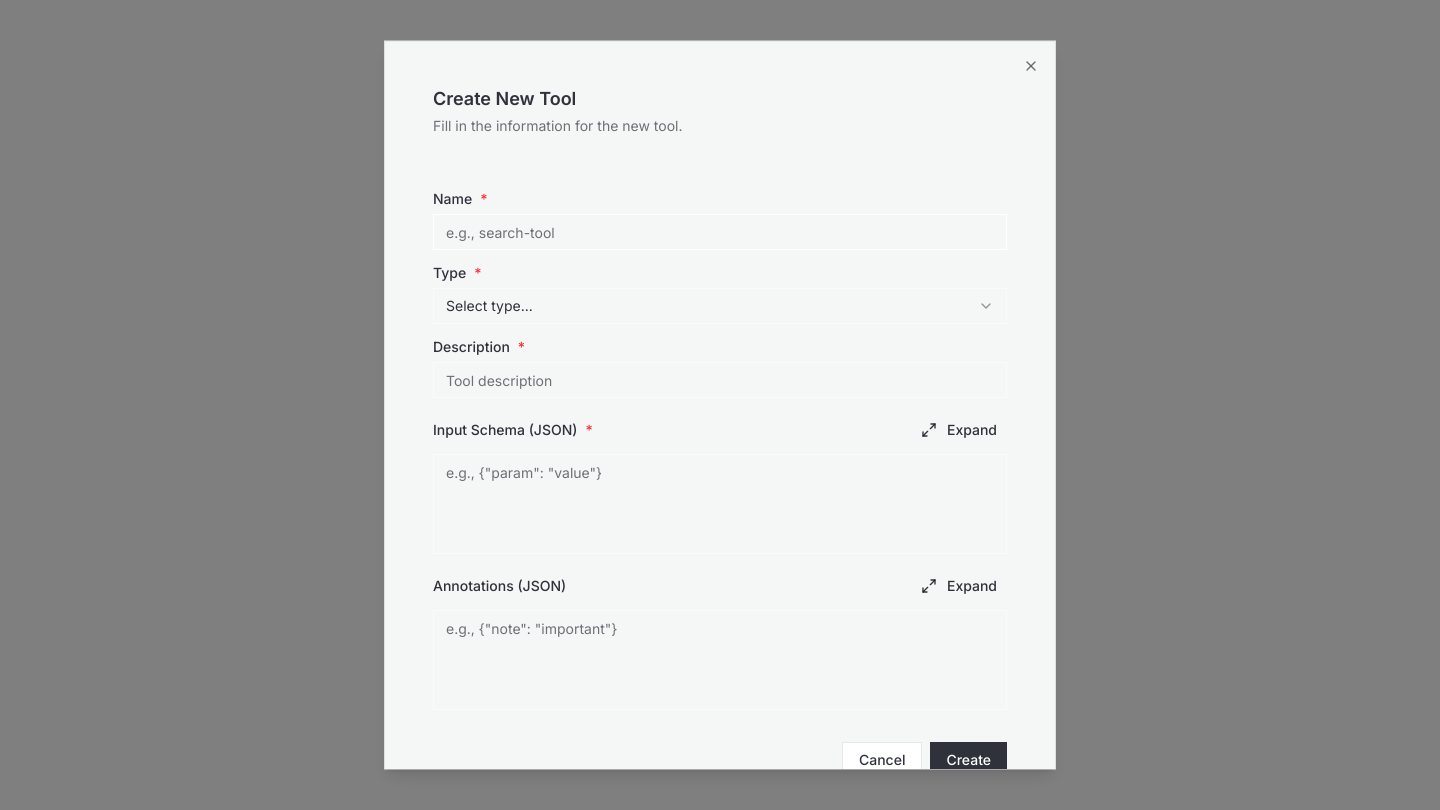
Test: ToolEditor › validation › should show error when type is not selected on submit
The width and height of the screenshot is (1440, 810).
Type "my-tool" into the field labelled "Name *" at (720, 232), box top-left (433, 214), bottom-right (1007, 250)
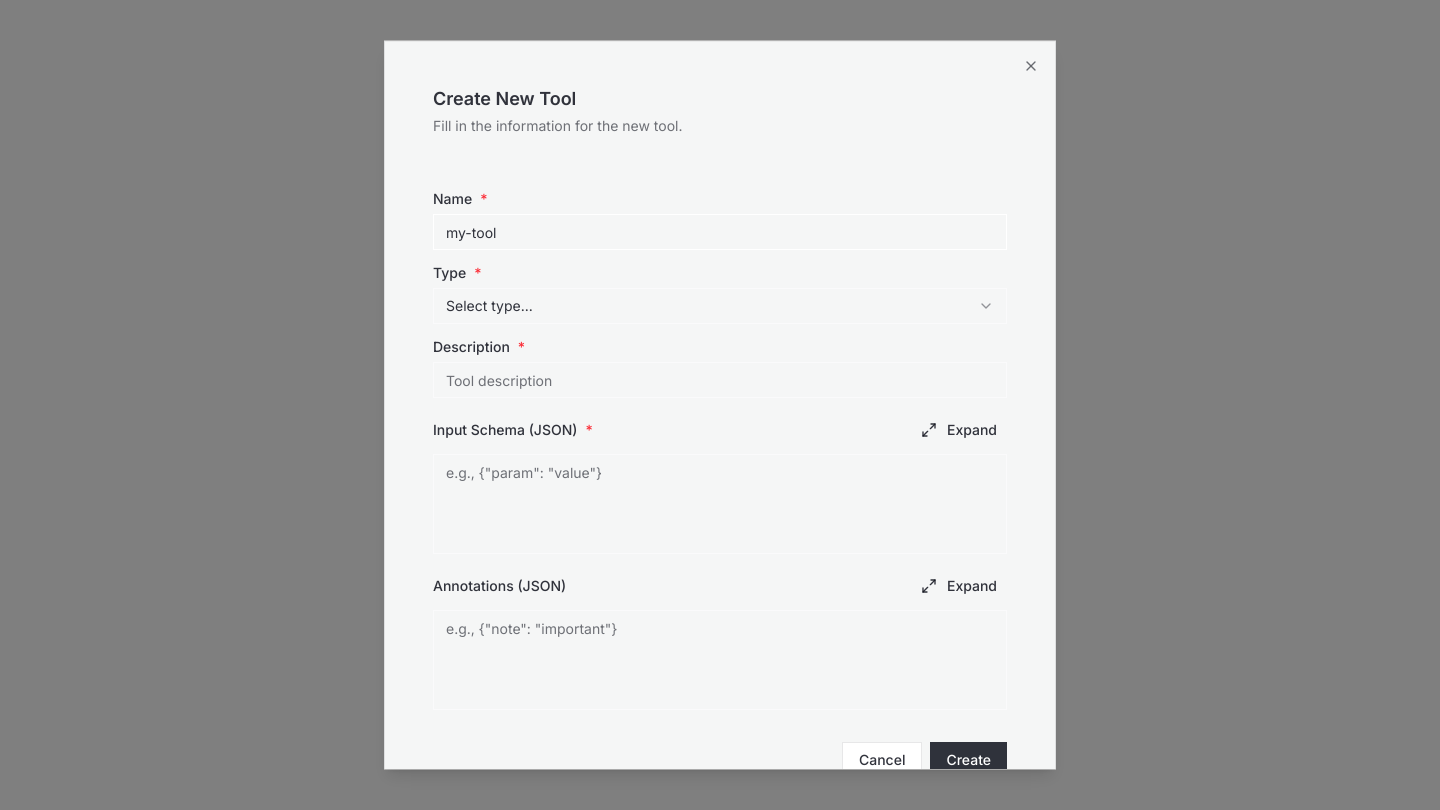
Click the button "Create" at (969, 760), box top-left (930, 742), bottom-right (1007, 778)
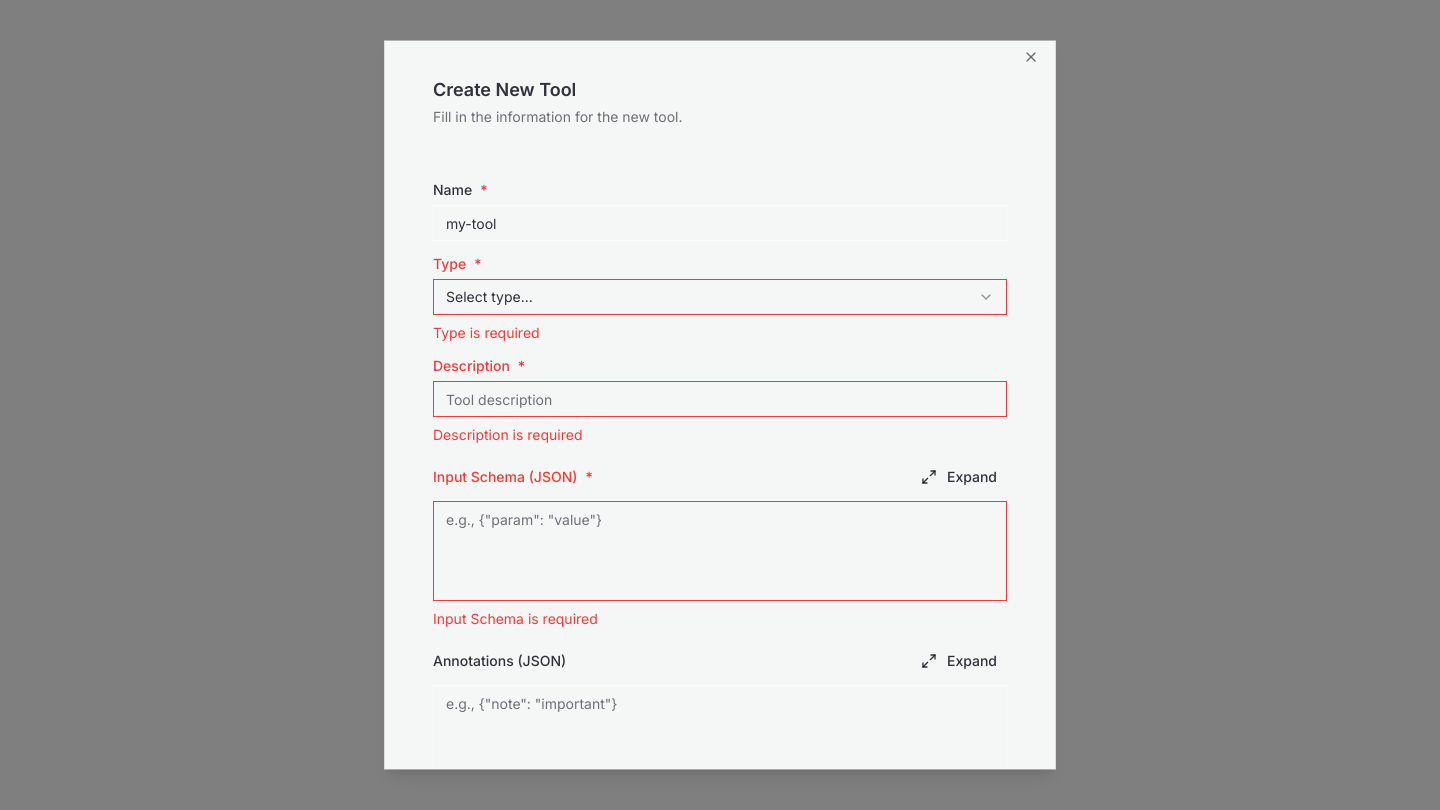
Now the text "Type is required" is shown, box top-left (433, 324), bottom-right (540, 340)
